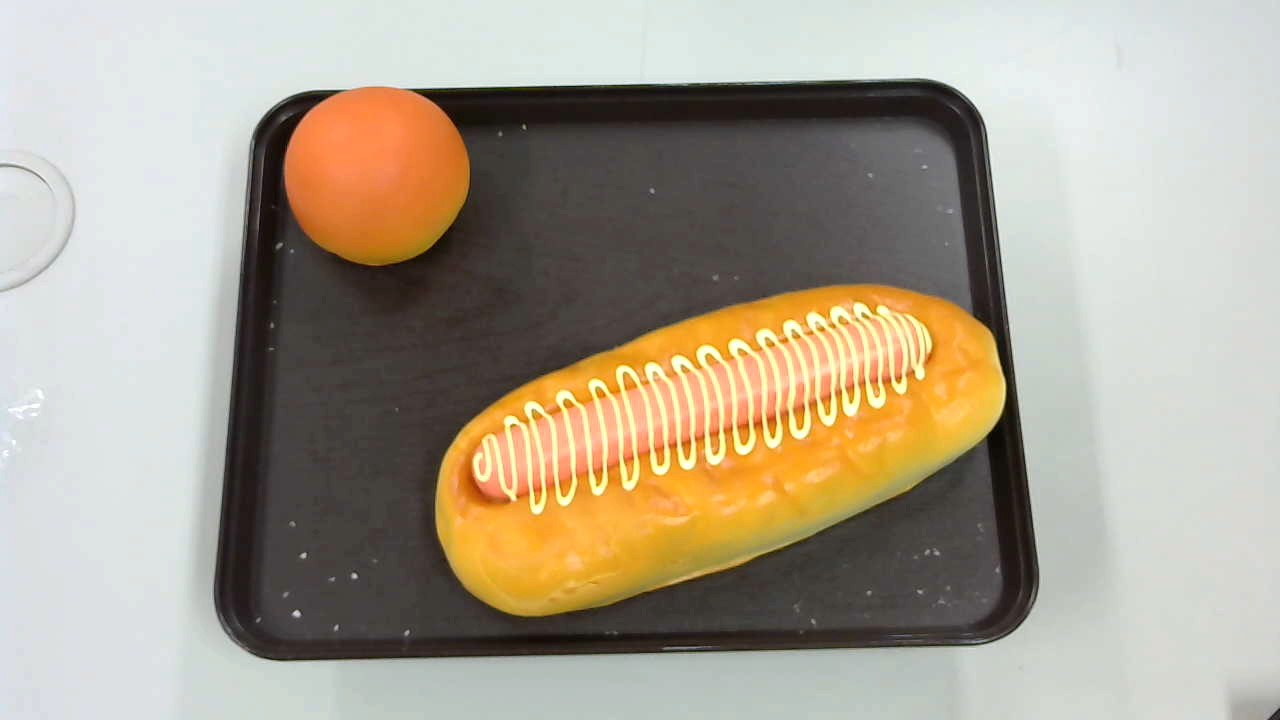bun: (284, 87, 471, 266)
hot dog: (434, 281, 1006, 618)
